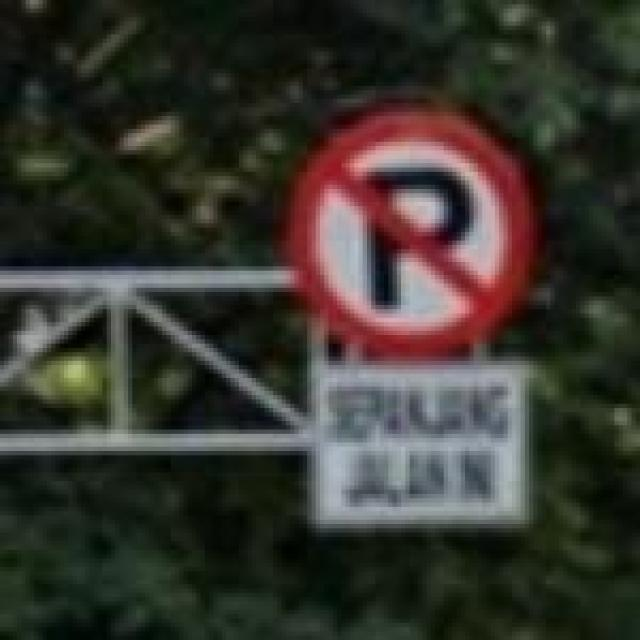traffic sign: (286, 103, 538, 357)
